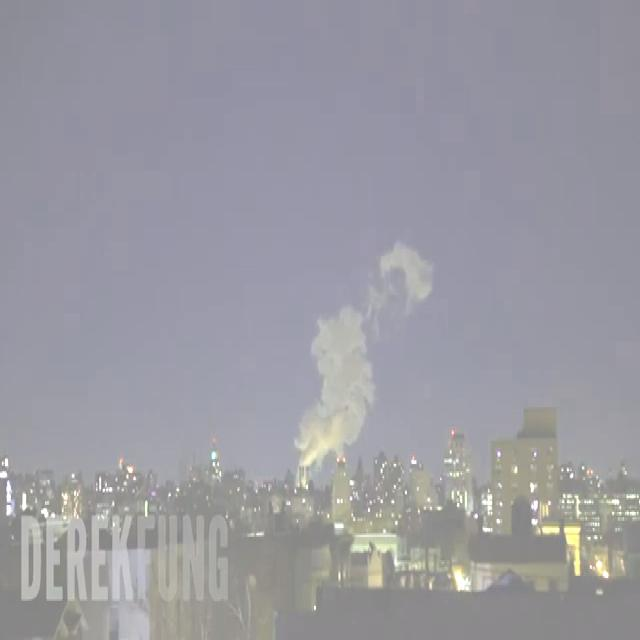smoke: (295, 242, 431, 466)
